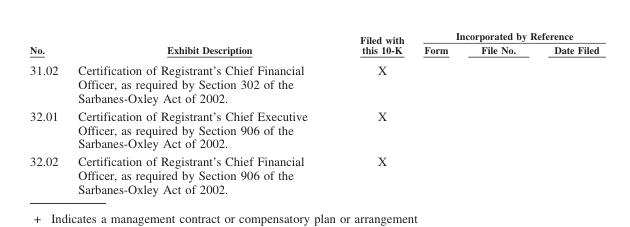table: (29, 29, 598, 195)
table column: (67, 29, 333, 195), (333, 29, 413, 195), (463, 29, 534, 195), (534, 29, 598, 195), (413, 29, 463, 195), (29, 29, 67, 195)
table column header: (29, 29, 598, 58)
table row: (29, 58, 598, 106), (29, 106, 598, 151), (29, 151, 598, 195), (29, 42, 598, 58), (29, 29, 598, 42)
table spanning cell: (67, 29, 333, 58), (413, 29, 598, 42), (333, 29, 413, 58), (29, 29, 67, 58)
